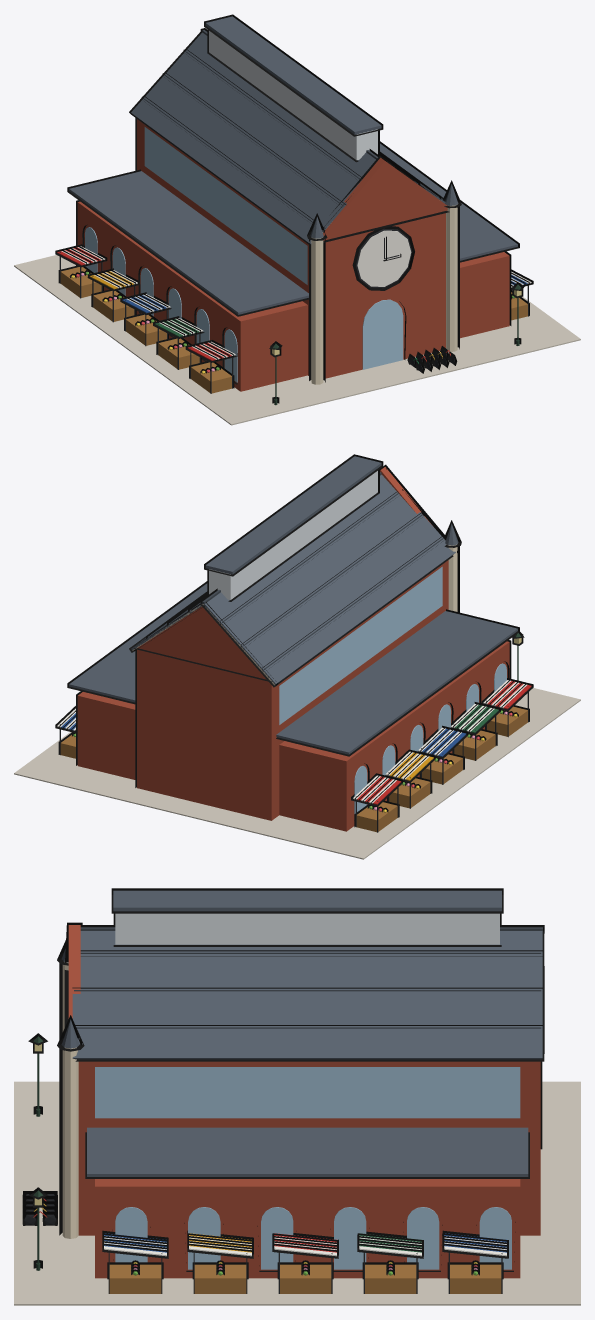
File: Simge_kapali_pazar.fbx
3 views of the same model, one above another, from view 1: azimuth 30°, elevation 25°; view 2: azimuth 150°, elevation 25°; view 3: azimuth 270°, elevation 25° (orthographic). The views are drawn at different scales.
Visible parts, largest first — view 1: Simge_kapali_pazar; view 2: Simge_kapali_pazar; view 3: Simge_kapali_pazar.
Part boxes in pixels (x1,y1,x2,y2): Simge_kapali_pazar: (14,14,580,425); Simge_kapali_pazar: (14,454,580,859); Simge_kapali_pazar: (14,888,580,1305).
Bounding box in the file's own units: 26 × 16.2 × 28.
